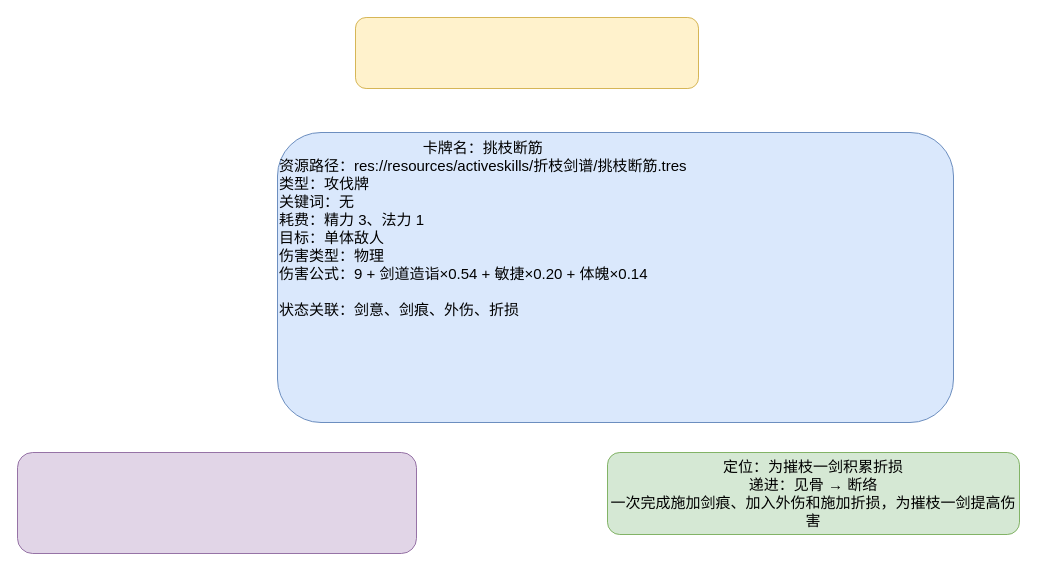
The diagram is 1037 pixels wide and 571 high, and some of its shapes have lost their labels. The centre of each missing label's shape, as x and y in pixels:
命中：+1剑意、+2剑痕 施加后有3层剑痕：消耗3层，加入1张外伤并施加1层折损 折枝剑势中：再+1折损 目标任一战斗牌区已有外伤：会心+10: (x=216, y=503)
挑枝断筋 折枝剑谱 / 摧枝卷 / 主修习得*1: (x=526, y=52)
